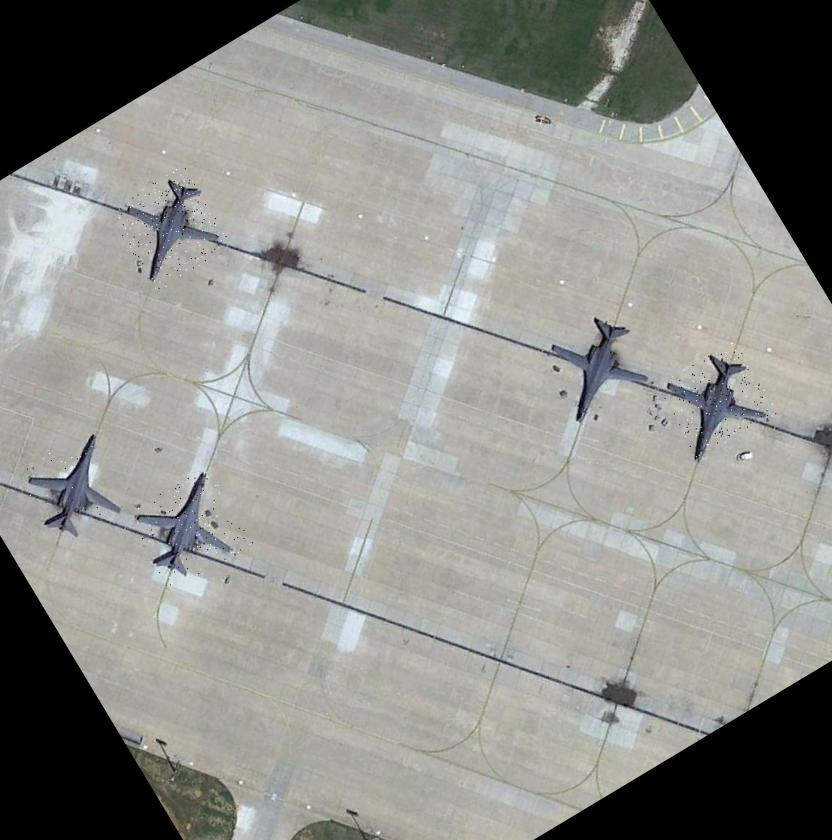A10: (529, 298, 660, 428), (106, 162, 233, 292), (124, 466, 253, 592), (11, 424, 140, 548), (654, 338, 778, 460)
